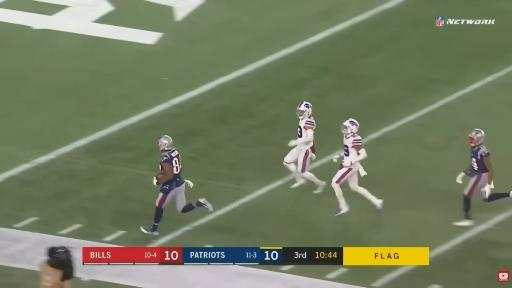Helmet: (341, 118, 359, 135), (297, 101, 312, 119), (469, 129, 484, 146), (158, 136, 173, 150)
Jersey: (160, 149, 184, 192), (470, 145, 489, 175), (344, 134, 362, 162), (298, 116, 315, 140)
Player: (140, 136, 213, 235), (454, 129, 511, 226), (332, 119, 383, 215), (284, 102, 326, 193)
